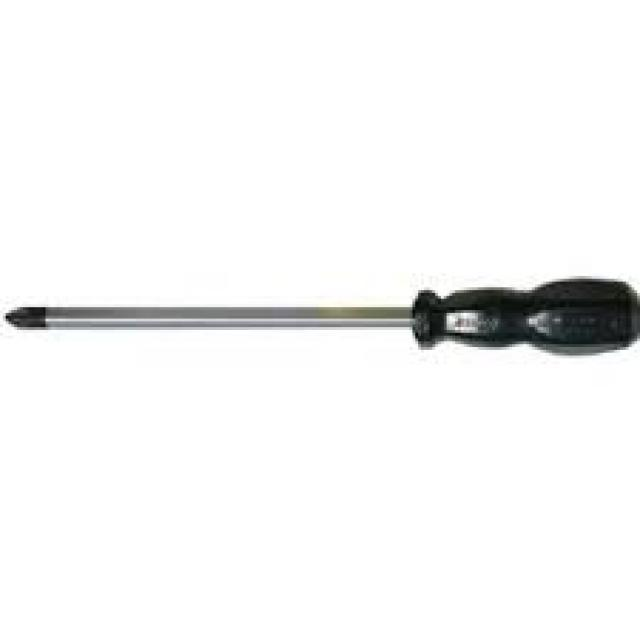screwdriver: (0, 273, 640, 356)
